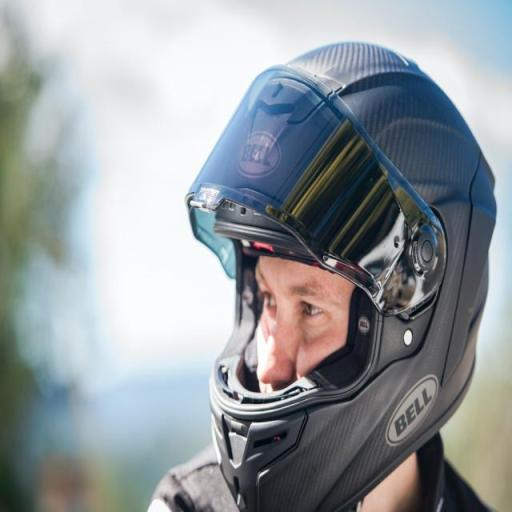Helmet: (188, 43, 495, 511)
